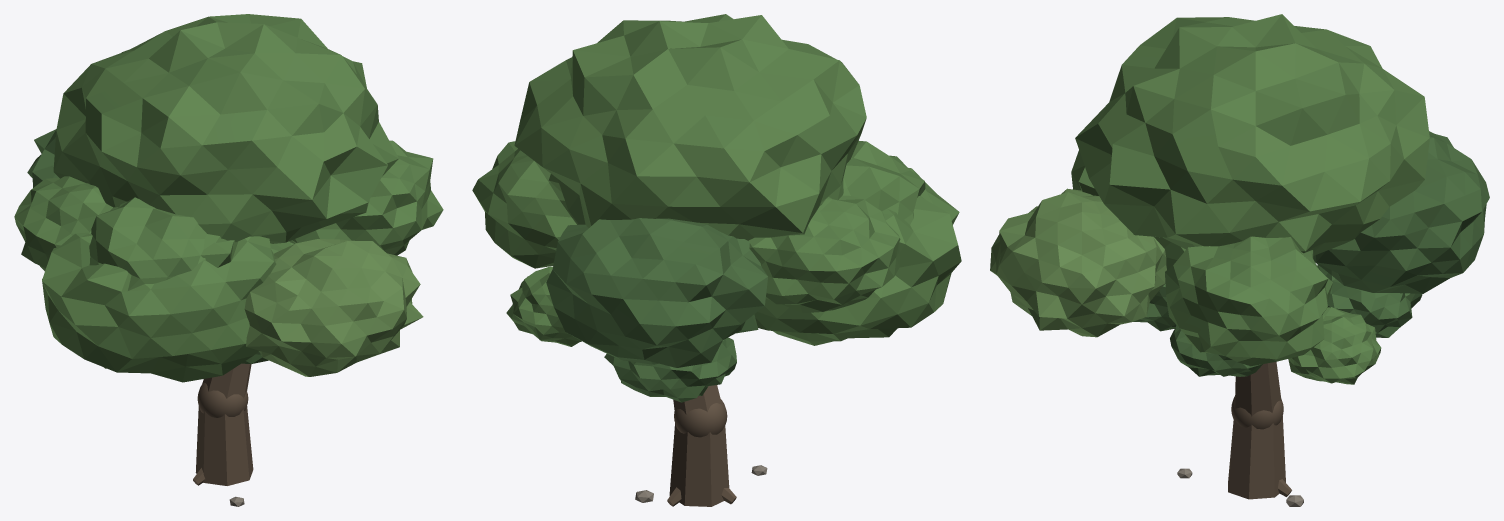
File: tree_lvl1.glb
3 renders of one model, left to right at view 1: azimuth 30°, elevation 25°; view 2: azimuth 150°, elevation 25°; view 3: azimuth 270°, elevation 25°, orthographic. The views are drawn at different scales.
Parts seen in each view (by area): view 1: tree; view 2: tree; view 3: tree.
Boxes of the visible parts, bbox=[...] form: tree: bbox=[14, 14, 443, 506]; tree: bbox=[472, 14, 961, 506]; tree: bbox=[990, 14, 1489, 506].
Size of the model in its own units: 0.6712 by 0.696 by 0.6846.
